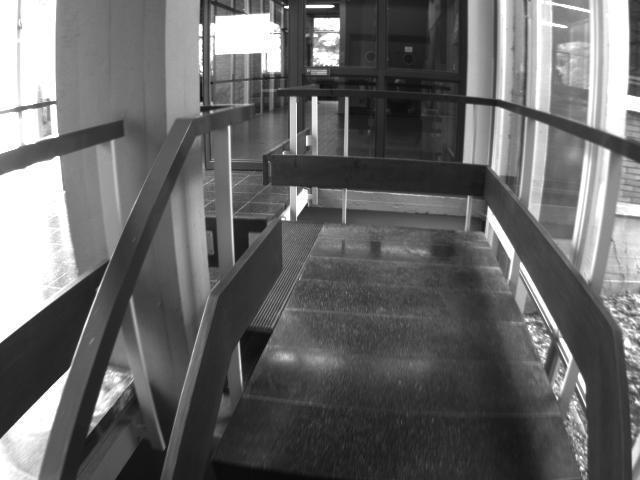Escaleras: (192, 430, 607, 479)
